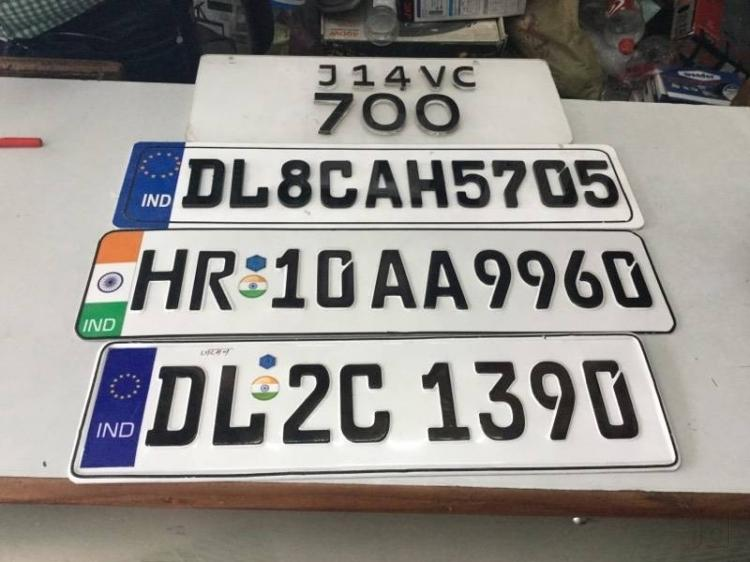inlp: (68, 331, 694, 480), (108, 135, 659, 233)
